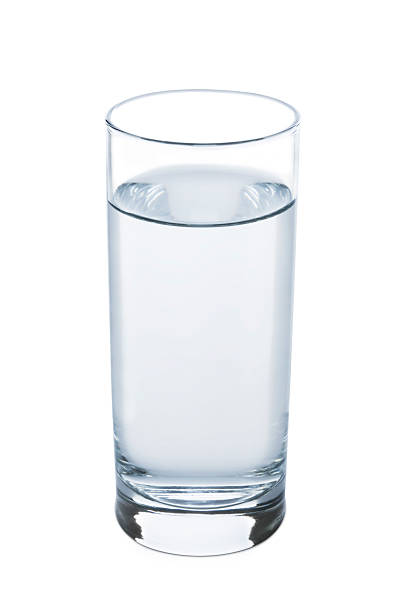glass of water: (92, 75, 316, 580)
